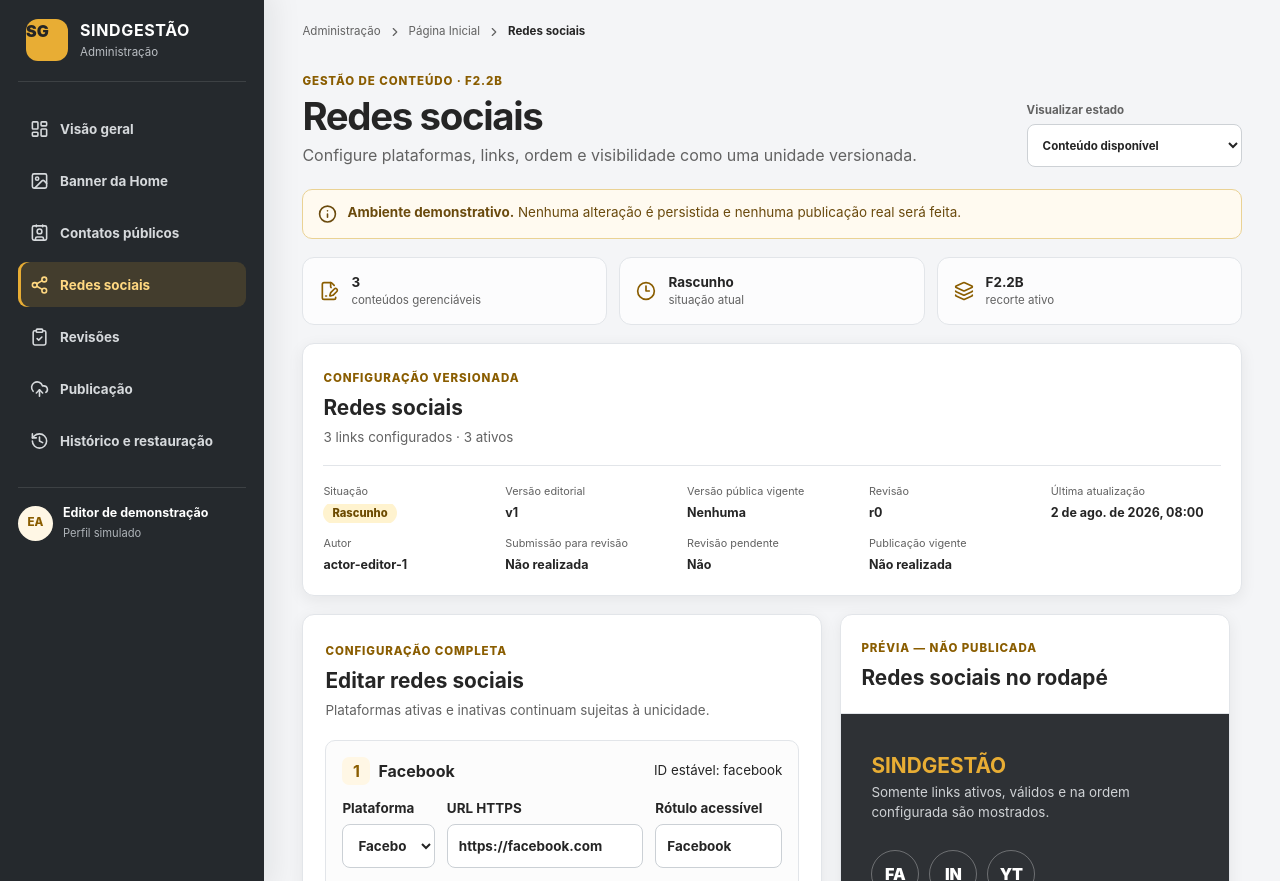
Scenario: F2.2B social editor › rejects unsafe or incompatible URL http://facebook.com/sind
The image size is (1280, 881).
Step 1. Replace the text in the field labelled "URL HTTPS" with "http://facebook.com/sind" → (545, 846), box [447, 824, 643, 868]
(page scrolled)
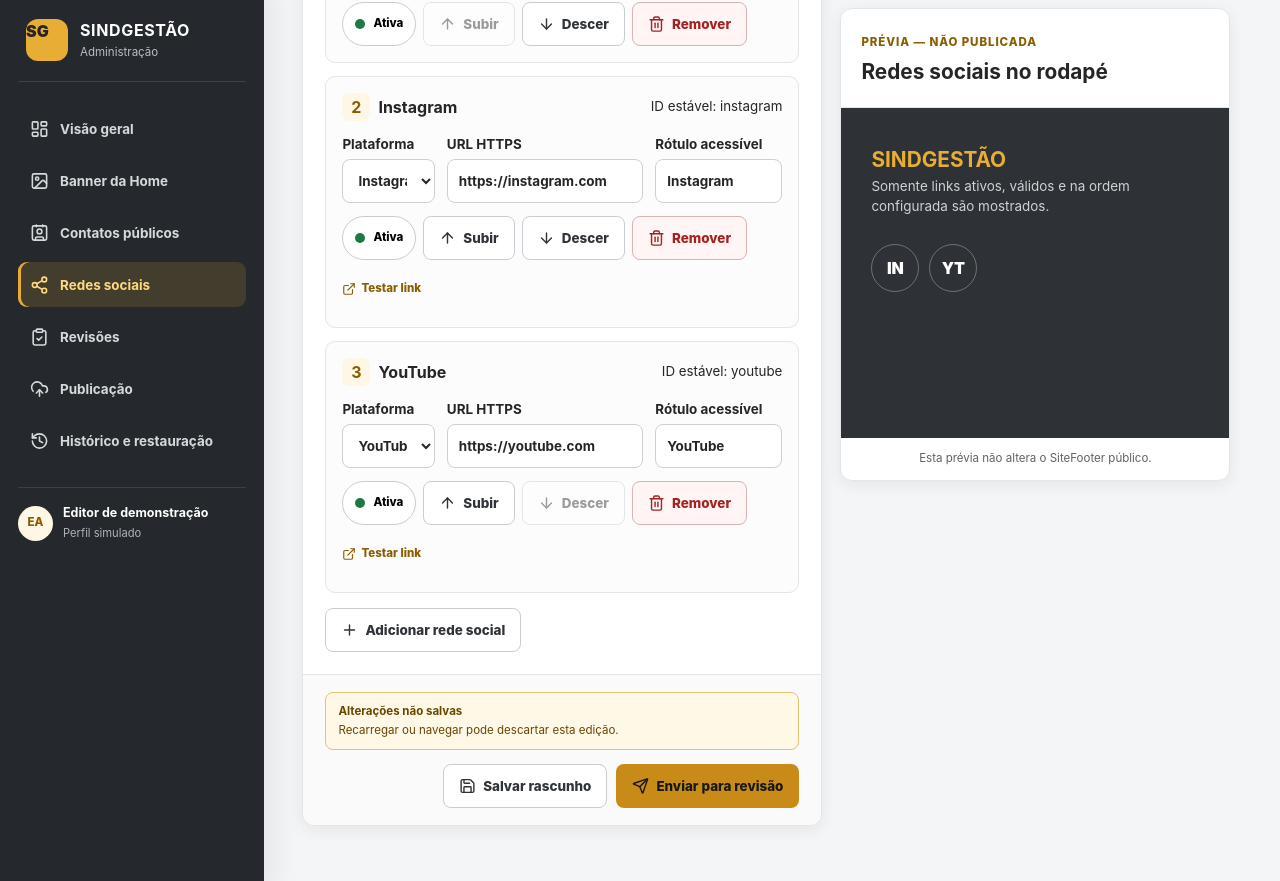
Step 2. Click the button "Salvar rascunho" → (525, 786), box [443, 764, 607, 808]
(page scrolled)
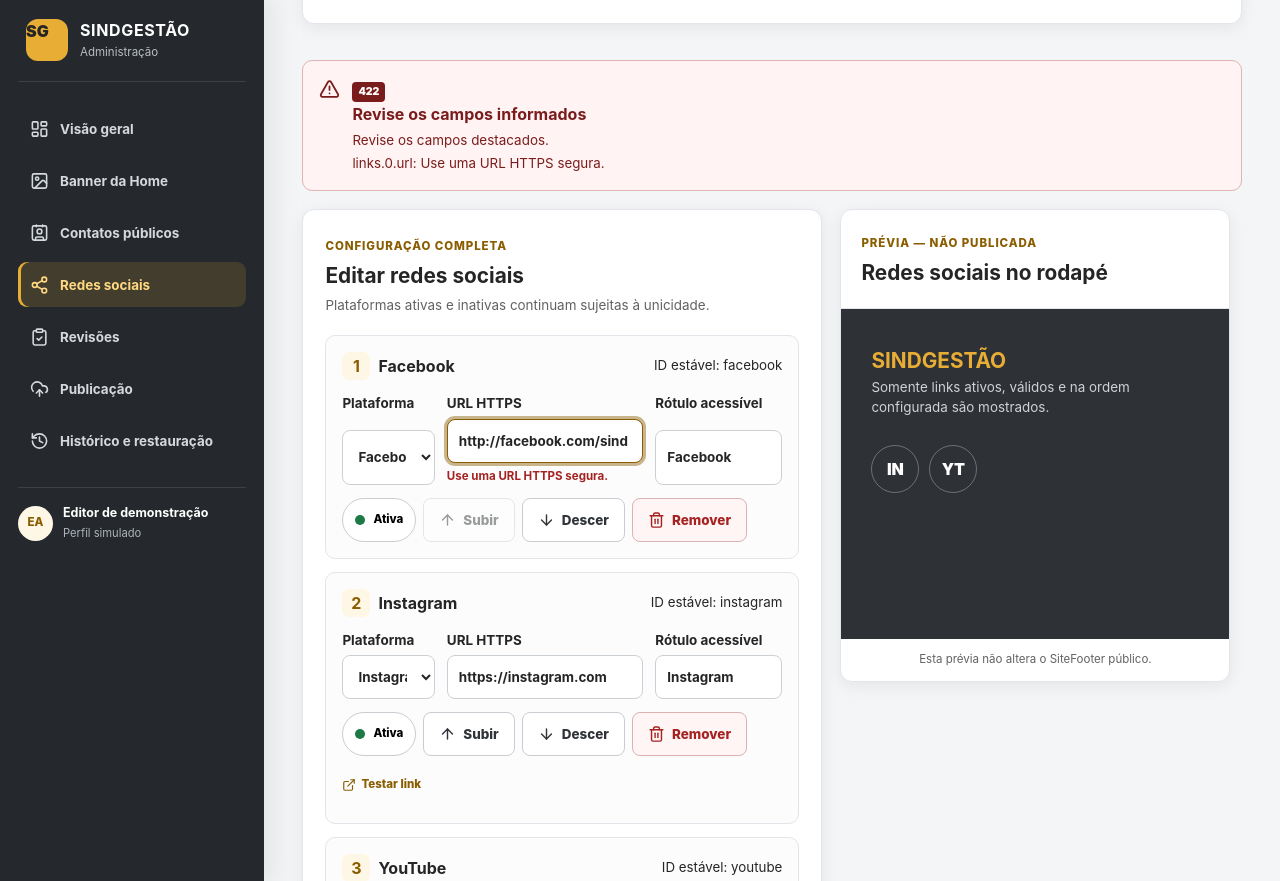
Result: the message shows "422" at [358, 85, 379, 98]
